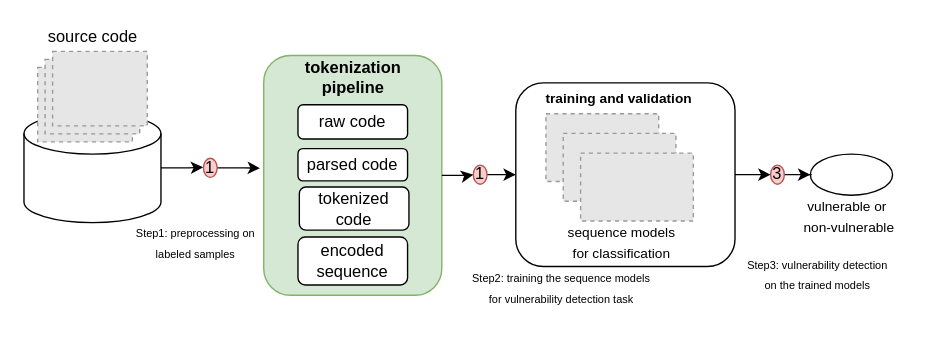
Image size: 927x337. Some labels were removed from this diagram. Grey dashed boxes stand in for pictures. Each missing label, with the box of its shape:
Labeled Dataset: (23, 112, 161, 223)
output: (809, 153, 893, 195)
